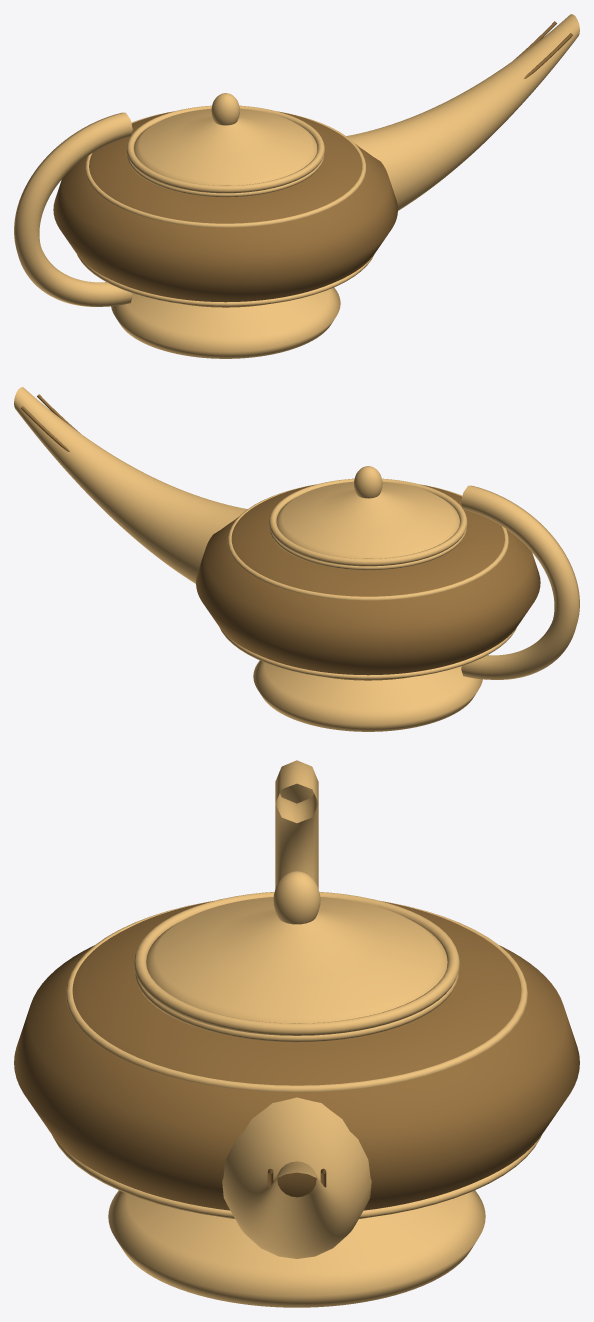
The model's file is lamp.glb.
The picture shows the model from 3 angles, top to bottom: view 1: azimuth 30°, elevation 25°; view 2: azimuth 150°, elevation 25°; view 3: azimuth 270°, elevation 25°; orthographic projection. The views are drawn at different scales.
Visible parts, largest first — view 1: lamp craftwork; view 2: lamp craftwork; view 3: lamp craftwork.
Part boxes in pixels (x1,y1,x2,y2): lamp craftwork: (14, 14, 579, 358); lamp craftwork: (14, 387, 579, 731); lamp craftwork: (14, 760, 579, 1307).
Size of the model in its own units: 1.12 by 0.443 by 0.6.
